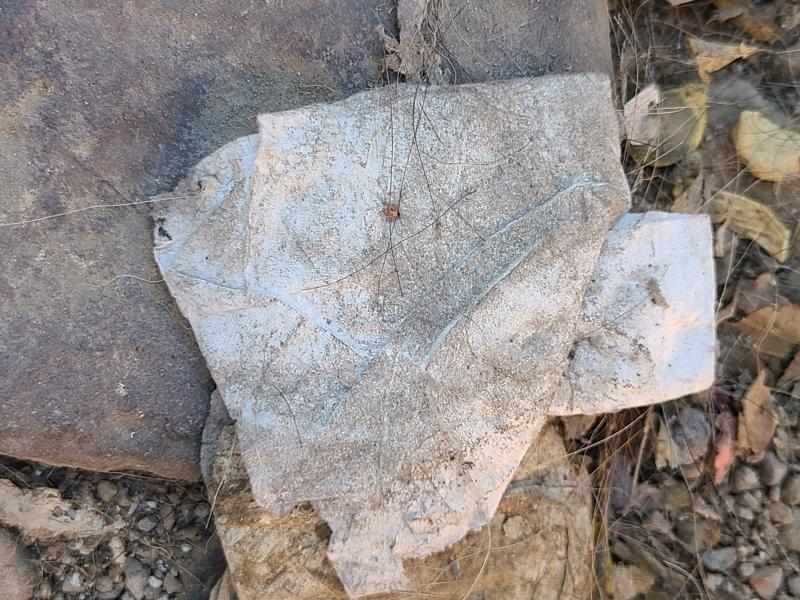papel: (154, 74, 718, 600)
